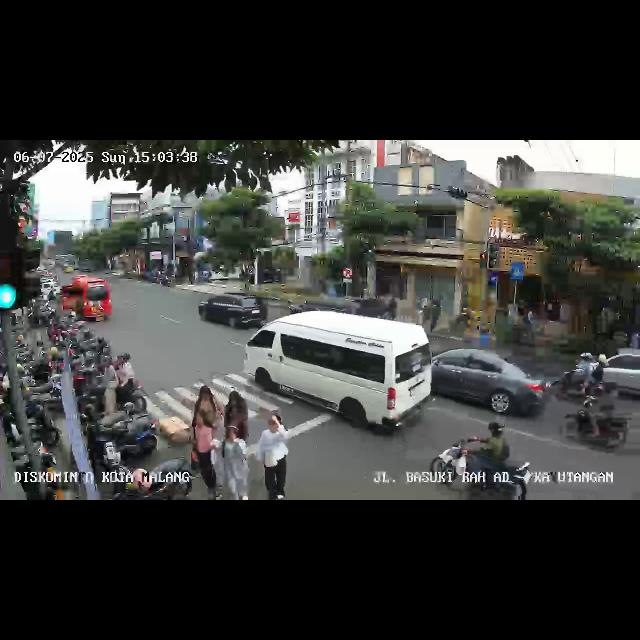car: (250, 308, 430, 438), (430, 347, 548, 421), (198, 291, 268, 329), (58, 276, 112, 324), (594, 350, 640, 404)
motorcycle: (432, 420, 530, 500), (560, 394, 632, 454), (549, 350, 619, 400)
person: (258, 410, 290, 496), (190, 412, 220, 500), (222, 425, 248, 499), (224, 389, 250, 445), (194, 382, 222, 422)
